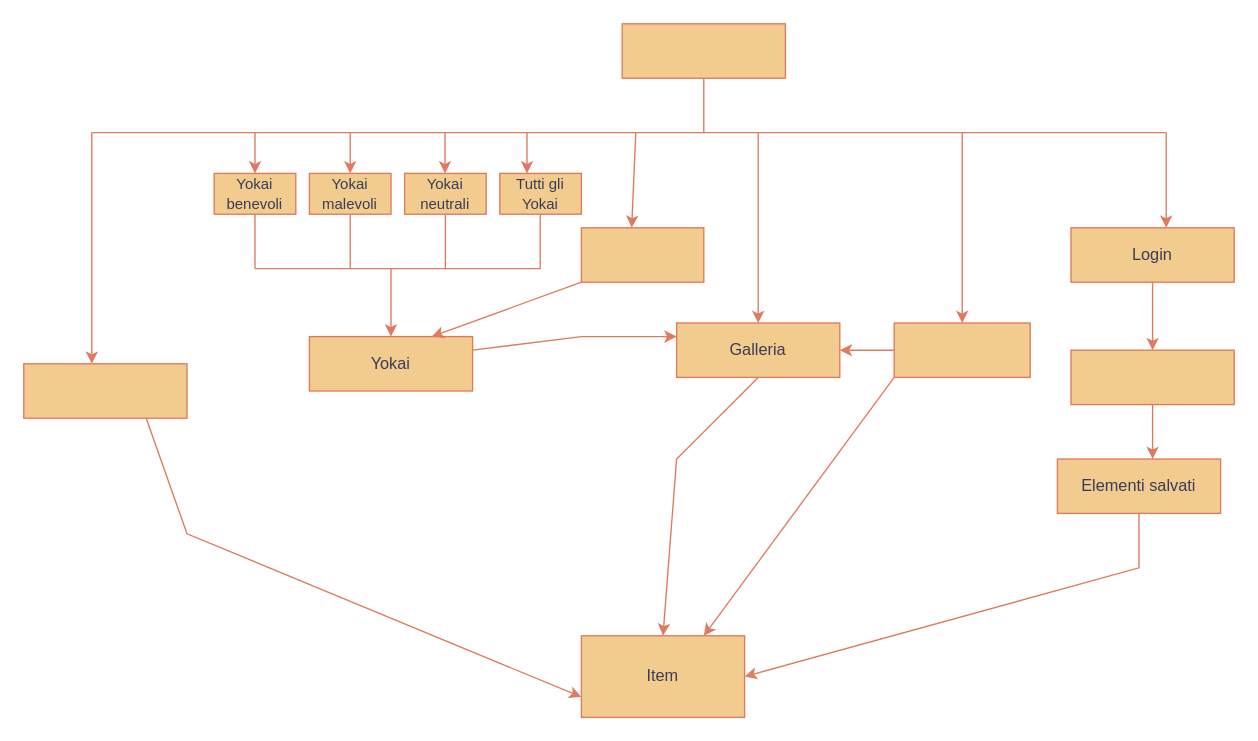
This 1258x741 diagram has some shape labels left out. Each missing label, with the box of its shape:
Autori: (893, 322, 1030, 377)
Home: (621, 22, 785, 78)
In evidenza: (22, 362, 187, 418)
Mappa: (580, 226, 704, 282)
Pagina Utente: (1070, 349, 1234, 405)
